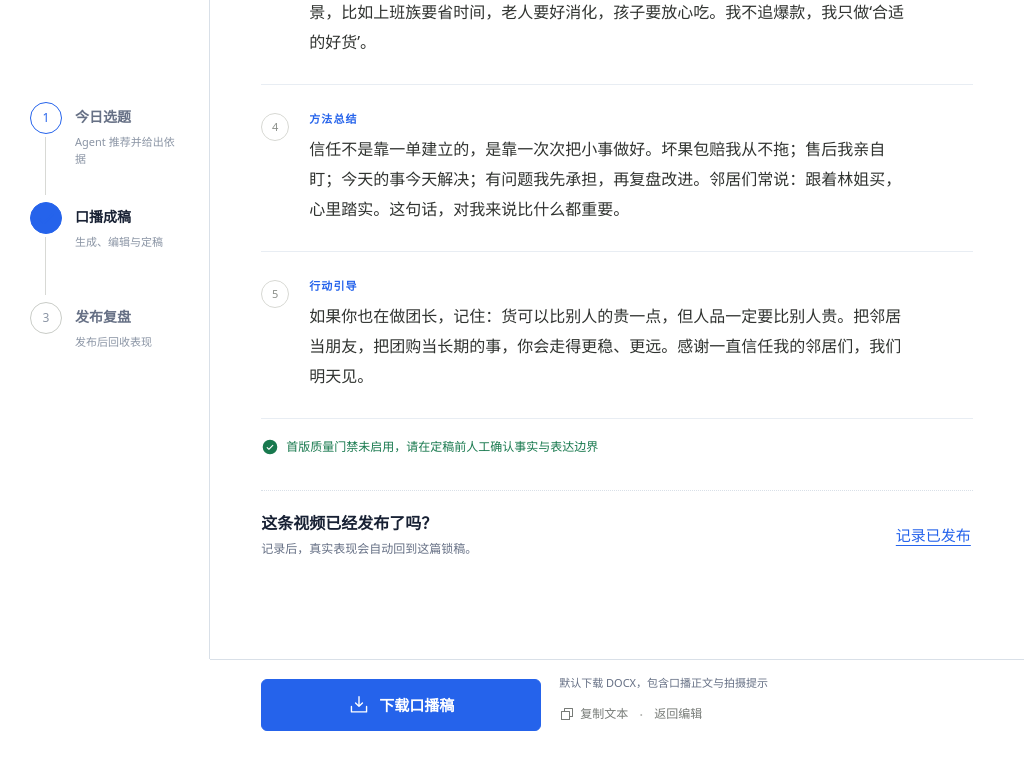
Test: 锁稿后的发布回执 › 锁稿文档脚注后显示一个轻量回执，并可展开身份输入
The image size is (1024, 768).
(page scrolled)
expect the text "这条视频已经发布了吗？" is shown: met, box x1=261 y1=512 x2=437 y2=534
Click the button "记录已发布" at x=933, y=536, box x1=894 y1=514 x2=973 y2=558
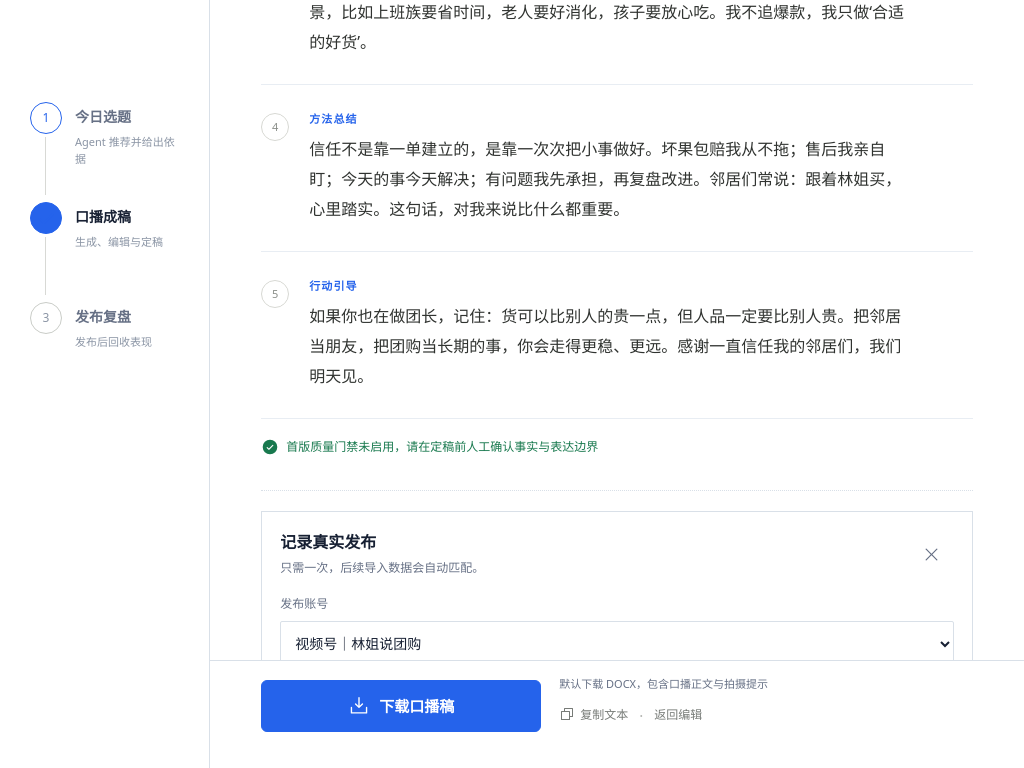
expect the field labelled "作品 ID 或视频链接" is shown: met, box x1=280 y1=709 x2=740 y2=755
expect the dropdown labelled "发布账号" shows "视频号｜林姐说团购": met, box x1=280 y1=621 x2=954 y2=667
